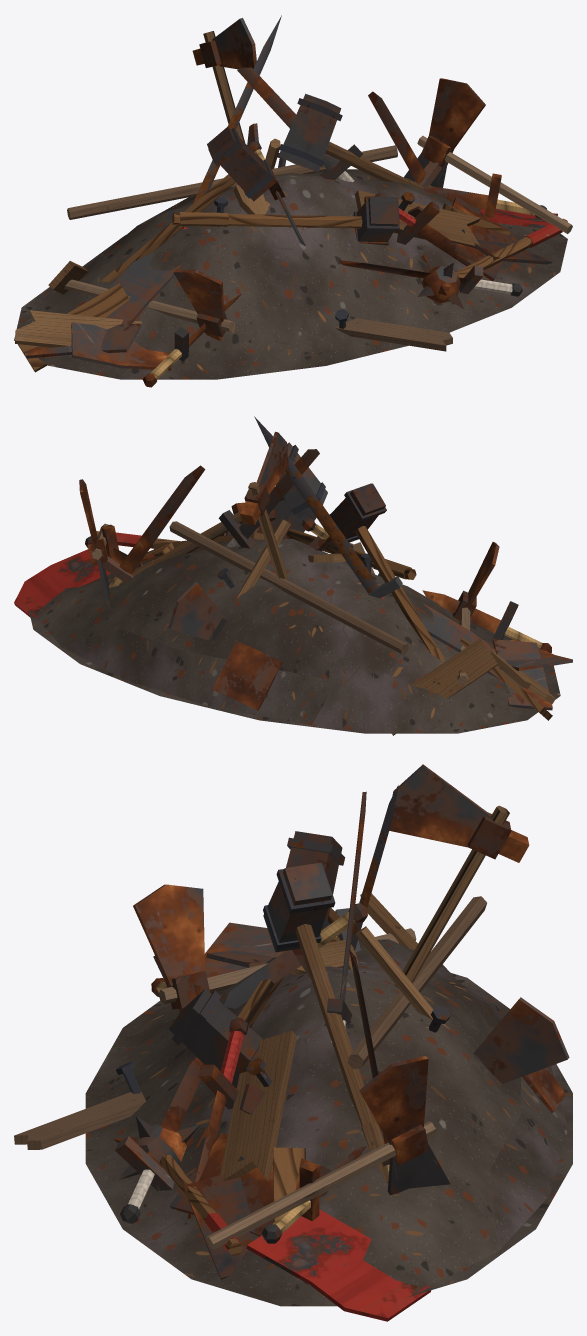
File: Broken_Weapons_Pile.glb
The picture shows the model from 3 angles, top to bottom: view 1: azimuth 30°, elevation 25°; view 2: azimuth 150°, elevation 25°; view 3: azimuth 270°, elevation 25°; orthographic projection. The views are drawn at different scales.
Parts seen in each view (by area): view 1: Broken_Weapons_Pile; view 2: Broken_Weapons_Pile; view 3: Broken_Weapons_Pile.
Part boxes in pixels (left/top/right/bottom): Broken_Weapons_Pile: left=14, top=15, right=572, bottom=387; Broken_Weapons_Pile: left=14, top=416, right=572, bottom=735; Broken_Weapons_Pile: left=14, top=764, right=572, bottom=1321.
Bounding box in the file's own units: 2.04 × 0.9612 × 1.29.
Materials: 12 (12 with a texture image).
